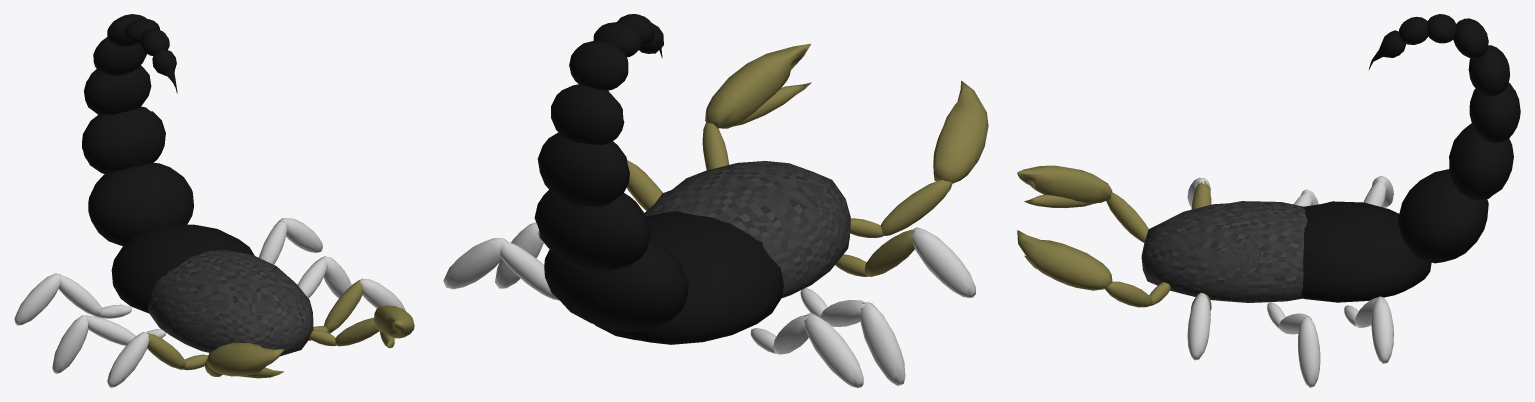
The model's file is scorpion_000016.obj.
3 renders of one model, left to right at view 1: azimuth 30°, elevation 25°; view 2: azimuth 150°, elevation 25°; view 3: azimuth 270°, elevation 25°, orthographic. The views are drawn at different scales.
Parts seen in each view (by area): view 1: Sphere.010_Sphere.012, Sphere.002_Sphere.004, Sphere.011_Sphere.013, Sphere.003_Sphere.005, Sphere.030_Sphere.000, Sphere.004_Sphere.006, Sphere.014_Sphere.023, Sphere.000_Sphere.019, Sphere.012_Sphere.020, Sphere.013_Sphere.017, Sphere.018_Sphere.025, Sphere.016_Sphere.022 (+9 smaller); view 2: Sphere.010_Sphere.012, Sphere.011_Sphere.013, Sphere.002_Sphere.004, Sphere.030_Sphere.000, Sphere.003_Sphere.005, Sphere.004_Sphere.006, Sphere.014_Sphere.023, Sphere.005_Sphere.007, Sphere.012_Sphere.020, Sphere.028_Sphere.046, Sphere.006_Sphere.008, Sphere.018_Sphere.025 (+9 smaller); view 3: Sphere.010_Sphere.012, Sphere.011_Sphere.013, Sphere.002_Sphere.004, Sphere.030_Sphere.000, Sphere.003_Sphere.005, Sphere.004_Sphere.006, Sphere.028_Sphere.046, Sphere.005_Sphere.007, Sphere.014_Sphere.023, Sphere.000_Sphere.019, Sphere.012_Sphere.020, Sphere.006_Sphere.008 (+7 smaller).
Part boxes in pixels (left/top/right/bottom): Sphere.010_Sphere.012: left=148, top=250, right=313, bottom=356; Sphere.002_Sphere.004: left=88, top=162, right=193, bottom=245; Sphere.011_Sphere.013: left=111, top=224, right=254, bottom=313; Sphere.003_Sphere.005: left=82, top=106, right=165, bottom=173; Sphere.030_Sphere.000: left=206, top=305, right=414, bottom=376; Sphere.004_Sphere.006: left=84, top=65, right=151, bottom=115; Sphere.014_Sphere.023: left=14, top=218, right=322, bottom=325; Sphere.000_Sphere.019: left=107, top=278, right=405, bottom=387; Sphere.012_Sphere.020: left=52, top=256, right=351, bottom=373; Sphere.013_Sphere.017: left=147, top=280, right=363, bottom=369; Sphere.018_Sphere.025: left=58, top=219, right=287, bottom=316; Sphere.016_Sphere.022: left=84, top=257, right=327, bottom=345; Sphere.010_Sphere.012: left=644, top=161, right=850, bottom=297; Sphere.011_Sphere.013: left=594, top=211, right=783, bottom=344; Sphere.002_Sphere.004: left=544, top=237, right=688, bottom=331; Sphere.030_Sphere.000: left=705, top=43, right=988, bottom=183; Sphere.003_Sphere.005: left=534, top=190, right=650, bottom=271; Sphere.004_Sphere.006: left=537, top=132, right=629, bottom=207; Sphere.014_Sphere.023: left=443, top=238, right=863, bottom=387; Sphere.005_Sphere.007: left=551, top=84, right=624, bottom=145; Sphere.012_Sphere.020: left=495, top=222, right=905, bottom=385; Sphere.028_Sphere.046: left=702, top=122, right=952, bottom=235; Sphere.006_Sphere.008: left=569, top=40, right=628, bottom=90; Sphere.018_Sphere.025: left=500, top=241, right=808, bottom=354; Sphere.010_Sphere.012: left=1141, top=201, right=1307, bottom=302; Sphere.011_Sphere.013: left=1301, top=201, right=1431, bottom=302; Sphere.002_Sphere.004: left=1398, top=169, right=1488, bottom=263; Sphere.030_Sphere.000: left=1017, top=165, right=1112, bottom=290; Sphere.003_Sphere.005: left=1449, top=123, right=1513, bottom=200; Sphere.004_Sphere.006: left=1469, top=83, right=1520, bottom=143; Sphere.028_Sphere.046: left=1105, top=192, right=1152, bottom=307; Sphere.005_Sphere.007: left=1468, top=45, right=1509, bottom=96; Sphere.014_Sphere.023: left=1371, top=176, right=1393, bottom=363; Sphere.000_Sphere.019: left=1187, top=177, right=1210, bottom=360; Sphere.012_Sphere.020: left=1298, top=189, right=1320, bottom=387; Sphere.006_Sphere.008: left=1453, top=18, right=1488, bottom=58.
Bounding box in the file's own units: 0.9448 × 0.8025 × 1.25.
